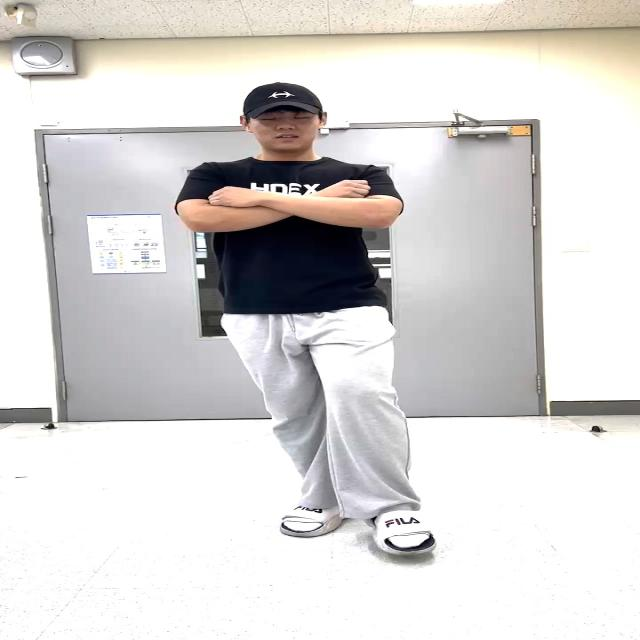leg: (321, 320, 422, 549)
